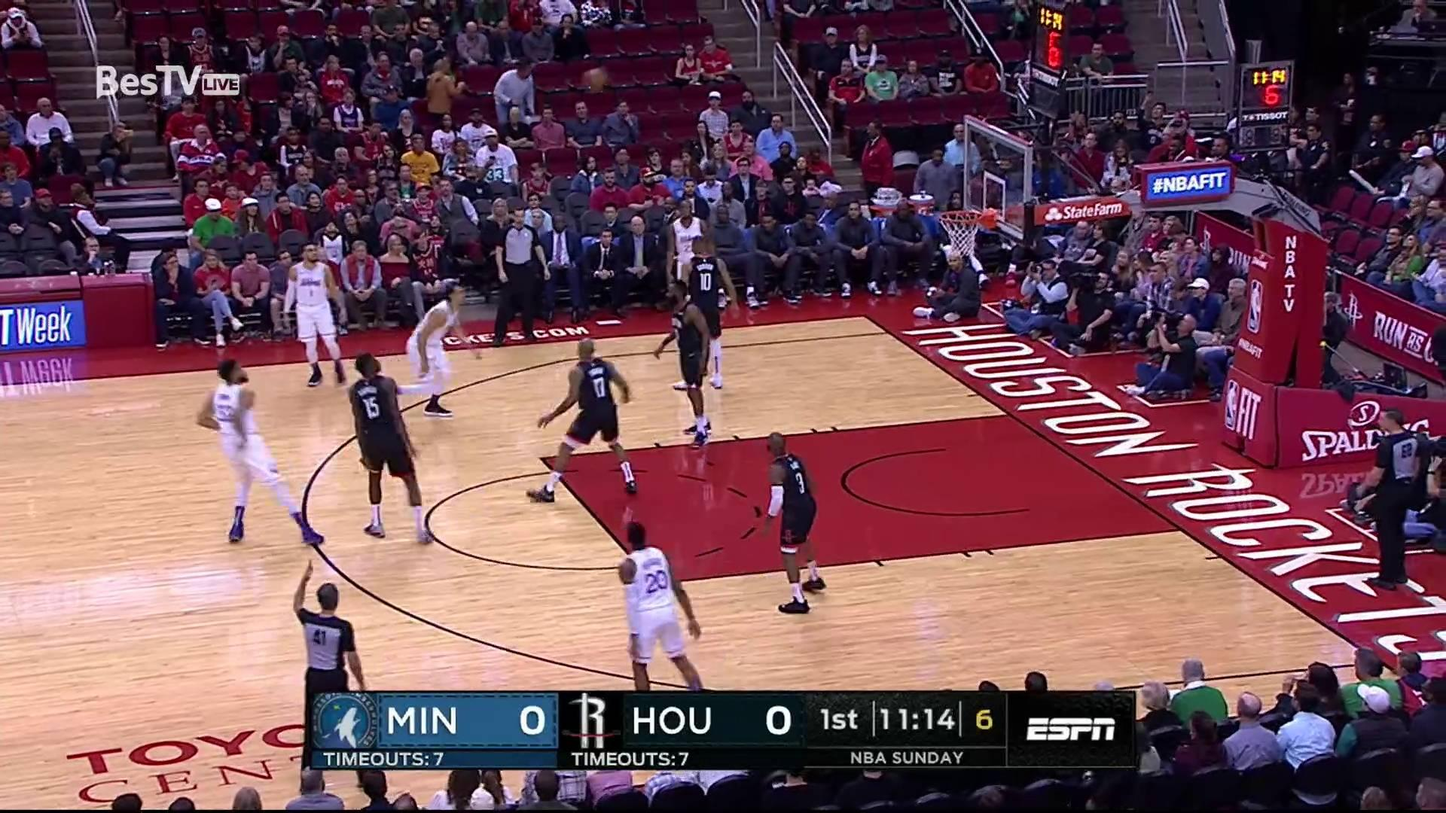basketball: (583, 65, 610, 96)
